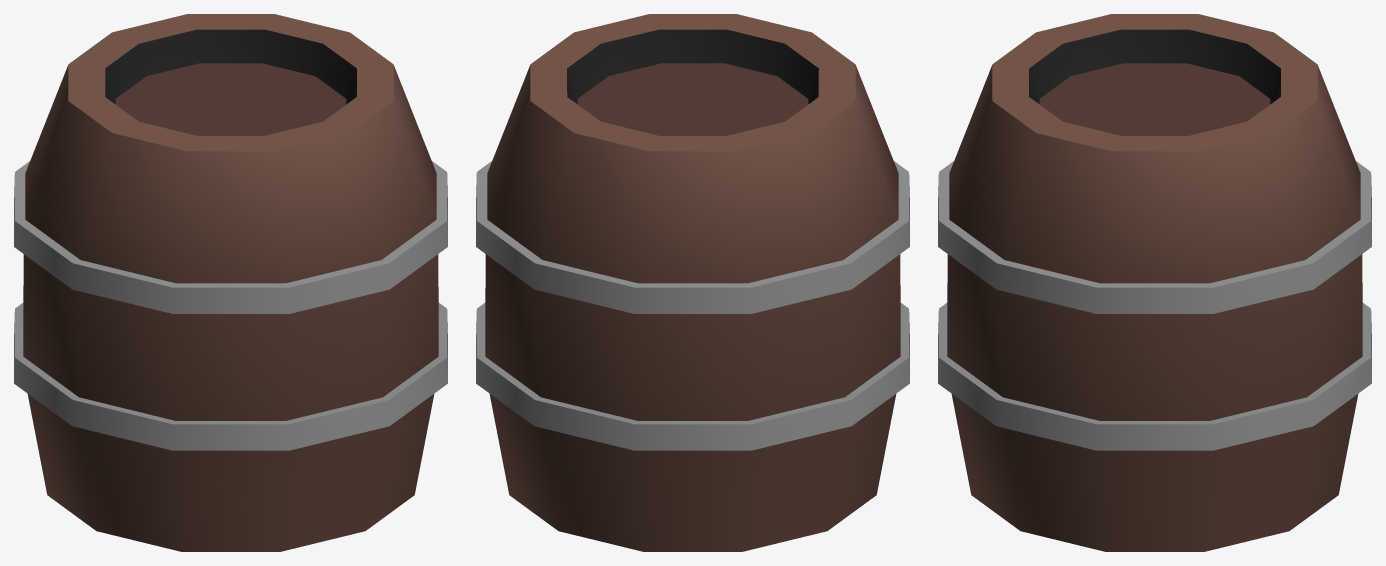
File: barrel_001.glb
The picture shows the model from 3 angles, left to right: view 1: azimuth 30°, elevation 25°; view 2: azimuth 150°, elevation 25°; view 3: azimuth 270°, elevation 25°; orthographic projection.
Visible parts, largest first — view 1: barrel_001; view 2: barrel_001; view 3: barrel_001.
Part boxes in pixels (<box>): barrel_001: <box>14,14,447,551</box>; barrel_001: <box>476,14,909,551</box>; barrel_001: <box>938,14,1371,551</box>.
Bounding box in the file's own units: 0.9352 × 0.9319 × 0.9353.
1 material, 1 textured.
